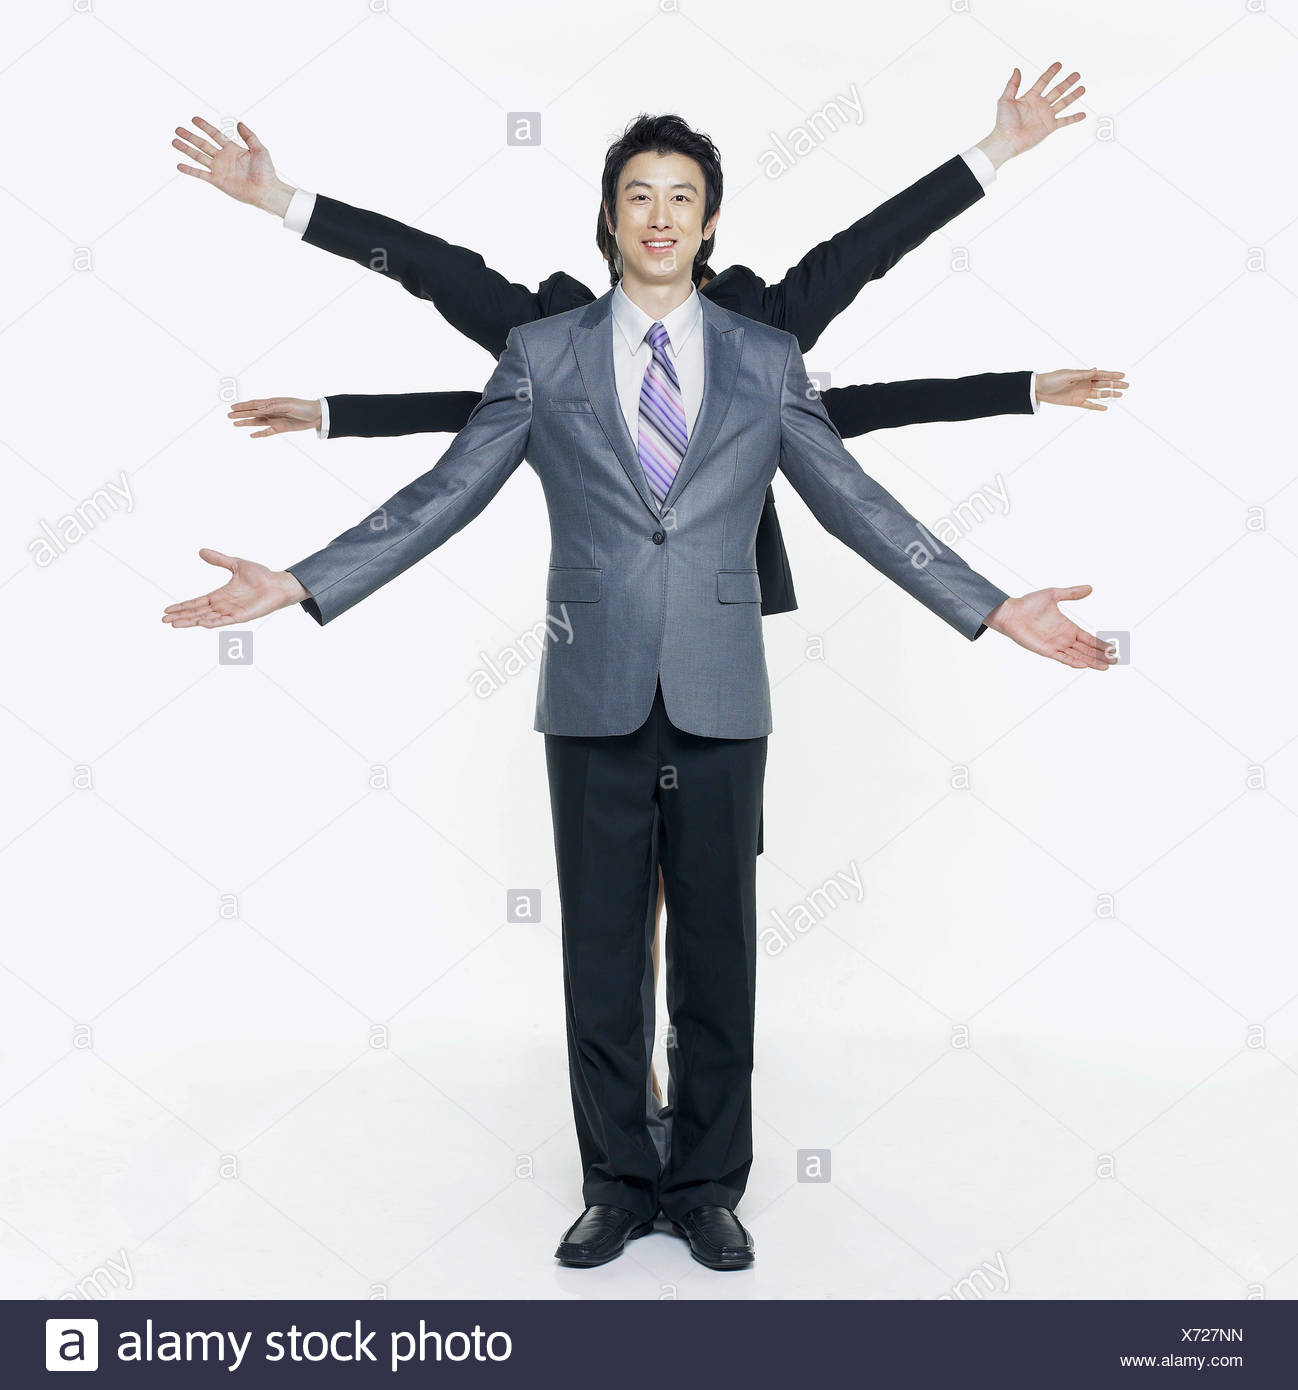person: (478, 132, 829, 538)
